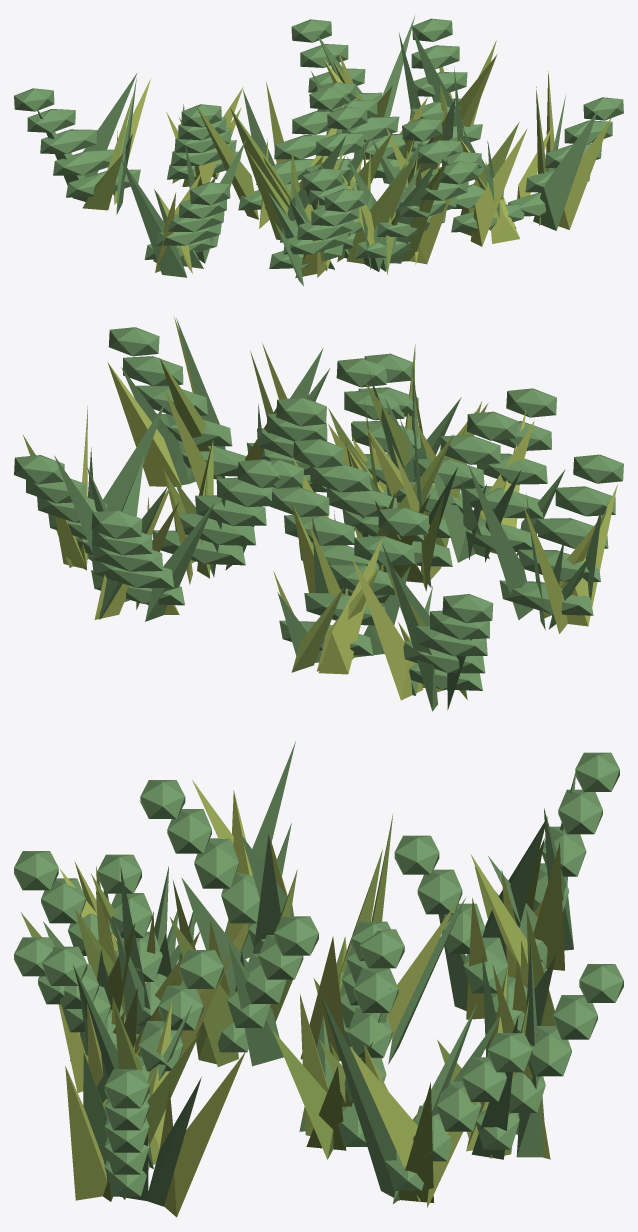
File: garden_fern.glb
The picture shows the model from 3 angles, top to bottom: view 1: azimuth 30°, elevation 25°; view 2: azimuth 150°, elevation 25°; view 3: azimuth 270°, elevation 25°; orthographic projection. The views are drawn at different scales.
Visible parts, largest first — view 1: garden_fern; view 2: garden_fern; view 3: garden_fern.
Boxes of the visible parts, <box> form: garden_fern: <box>14,15,623,286</box>; garden_fern: <box>14,316,623,711</box>; garden_fern: <box>14,741,623,1217</box>.
Size of the model in its own units: 1.09 by 0.2686 by 0.8103.
